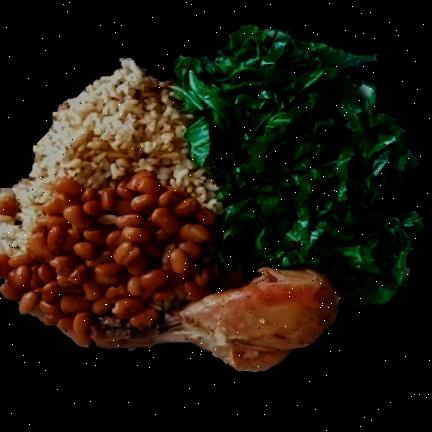beans: (0, 173, 217, 343)
chicken: (92, 267, 341, 371)
rice: (0, 59, 223, 256)
salad: (176, 26, 424, 308)
